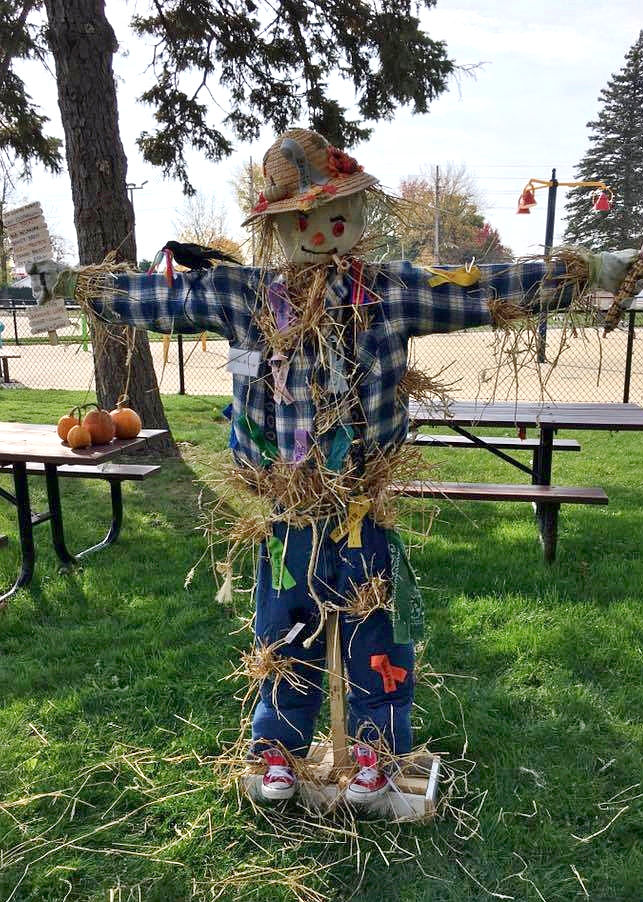person-like: (33, 123, 643, 831)
